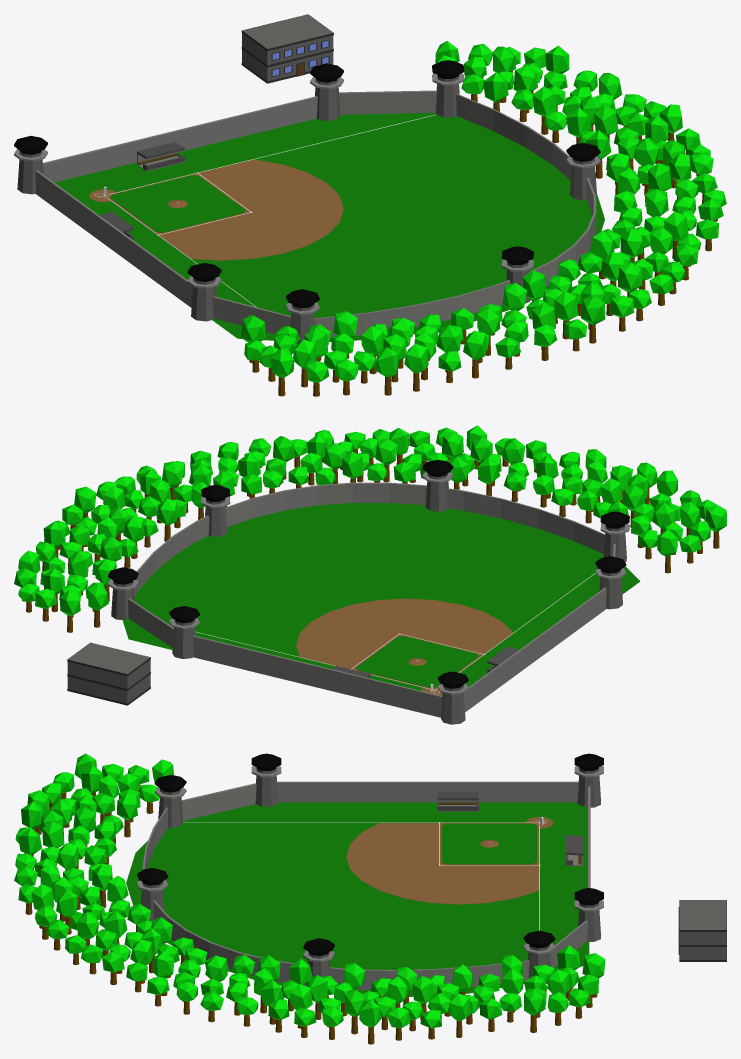
File: BaseballField_8.fbx
3 renders of one model, top to bottom at view 1: azimuth 30°, elevation 25°; view 2: azimuth 150°, elevation 25°; view 3: azimuth 270°, elevation 25°, orthographic. The views are drawn at different scales.
Parts seen in each view (by area): view 1: Field - Out, Field - Mid, Fence, Fence.003, Building1, Field - In, Fence.004, Fence.001, Guard Tower.002, Guard Tower.005, Guard Tower, Fence.002 (+14 smaller); view 2: Field - Out, Field - Mid, Fence, Fence.003, Building1, Field - In, Fence.004, Guard Tower.006, Guard Tower.004, Guard Tower.005, Guard Tower.002, Guard Tower.003 (+19 smaller); view 3: Field - Out, Field - Mid, Fence.004, Field - In, Fence, Building1, Fence.002, Guard Tower.002, Guard Tower.006, Guard Tower.001, Guard Tower.005, Guard Tower.004 (+25 smaller).
Part boxes in pixels (bbox=[...]): Field - Out: bbox=[55, 113, 604, 341]; Field - Mid: bbox=[89, 159, 343, 260]; Fence: bbox=[314, 93, 596, 338]; Fence.003: bbox=[43, 96, 317, 182]; Building1: bbox=[241, 14, 333, 83]; Field - In: bbox=[110, 175, 245, 232]; Fence.004: bbox=[35, 170, 192, 307]; Fence.001: bbox=[339, 90, 436, 114]; Guard Tower.002: bbox=[187, 263, 221, 321]; Guard Tower.005: bbox=[310, 63, 343, 120]; Guard Tower: bbox=[566, 143, 600, 200]; Fence.002: bbox=[212, 296, 290, 334]; Field - Out: bbox=[122, 503, 640, 695]; Field - Mid: bbox=[296, 598, 512, 695]; Fence: bbox=[134, 482, 605, 596]; Fence.003: bbox=[193, 635, 442, 717]; Building1: bbox=[67, 642, 150, 705]; Field - In: bbox=[356, 636, 478, 687]; Fence.004: bbox=[463, 587, 606, 712]; Guard Tower.006: bbox=[438, 671, 468, 724]; Guard Tower.004: bbox=[422, 459, 453, 511]; Guard Tower.005: bbox=[169, 606, 199, 658]; Guard Tower.002: bbox=[595, 556, 626, 609]; Guard Tower.003: bbox=[108, 567, 138, 619]; Field - Out: bbox=[126, 802, 589, 996]; Field - Mid: bbox=[346, 817, 553, 904]; Fence.004: bbox=[277, 781, 578, 802]; Field - In: bbox=[441, 823, 537, 864]; Fence: bbox=[142, 807, 529, 989]; Building1: bbox=[678, 900, 726, 961]; Fence.002: bbox=[181, 783, 256, 820]; Guard Tower.002: bbox=[251, 753, 281, 806]; Guard Tower.006: bbox=[574, 753, 603, 807]; Guard Tower.001: bbox=[154, 774, 186, 828]; Guard Tower.005: bbox=[574, 888, 603, 941]; Guard Tower.004: bbox=[137, 868, 168, 921].
Bounding box in the file's own units: 15611 × 1496 × 18417.
